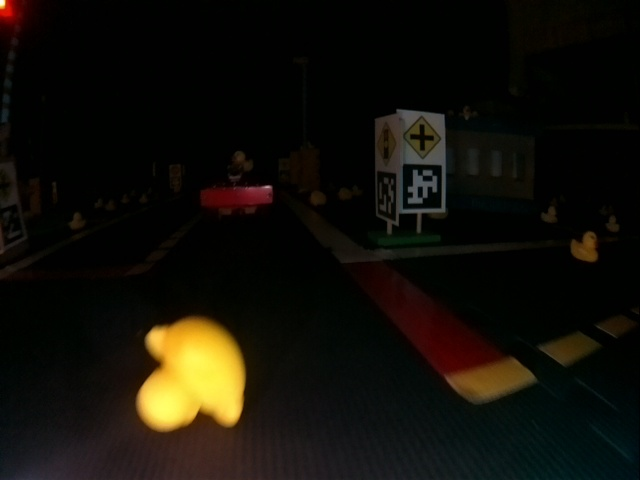Duckie: (137, 316, 245, 431), (570, 232, 598, 262), (231, 151, 253, 171), (69, 213, 85, 229), (542, 207, 557, 223)
Duckiebot: (200, 171, 273, 213)
Intersection sign: (402, 114, 443, 159)
QR code: (403, 165, 443, 210), (376, 170, 396, 219)
Signal sign: (377, 124, 397, 163)
